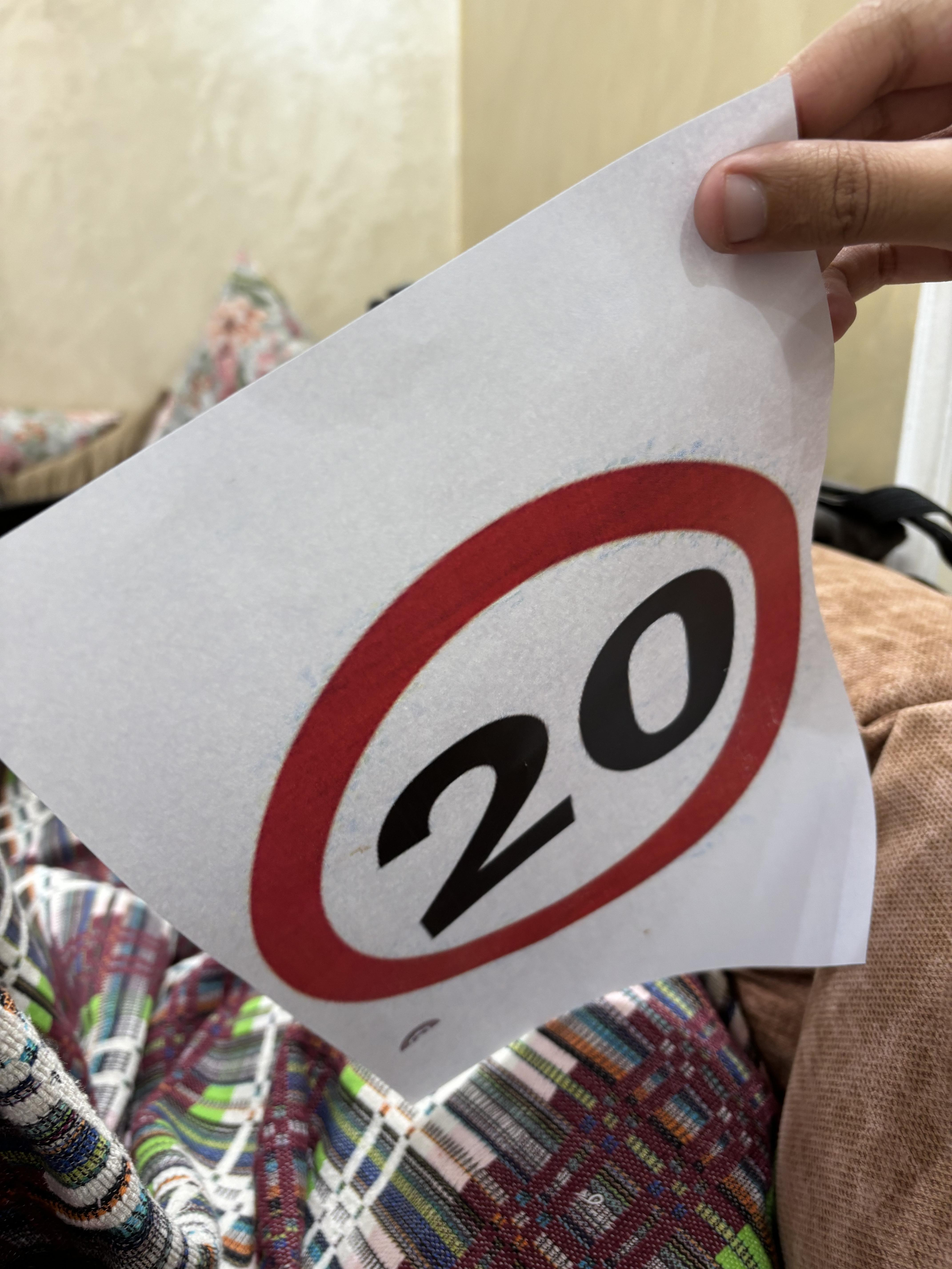20-Speed: (252, 476, 801, 981)
